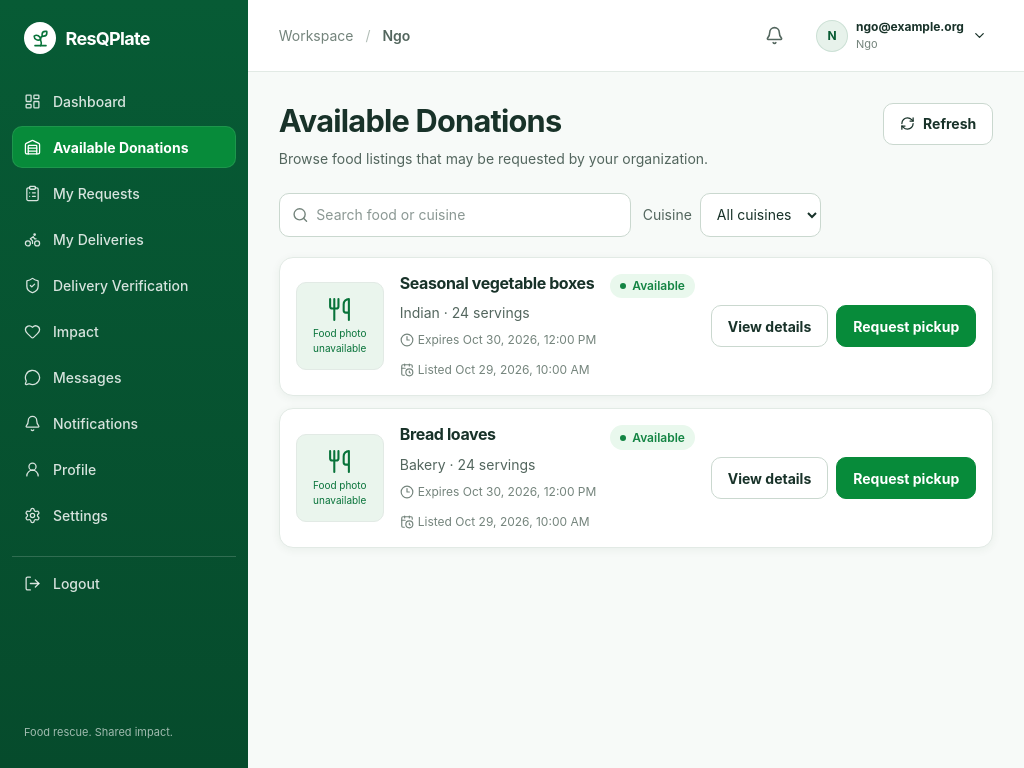
NGO available donations screen › renders visible listings and filters them by search and cuisine
The width and height of the screenshot is (1024, 768).
Expected: the heading "Seasonal vegetable boxes" is shown, x1=400 y1=274 x2=594 y2=293
Expected: the heading "Bread loaves" is shown, x1=400 y1=425 x2=496 y2=445
Type "vegetable" into the field named "Search donations" at (467, 215), box x1=316 y1=204 x2=618 y2=225
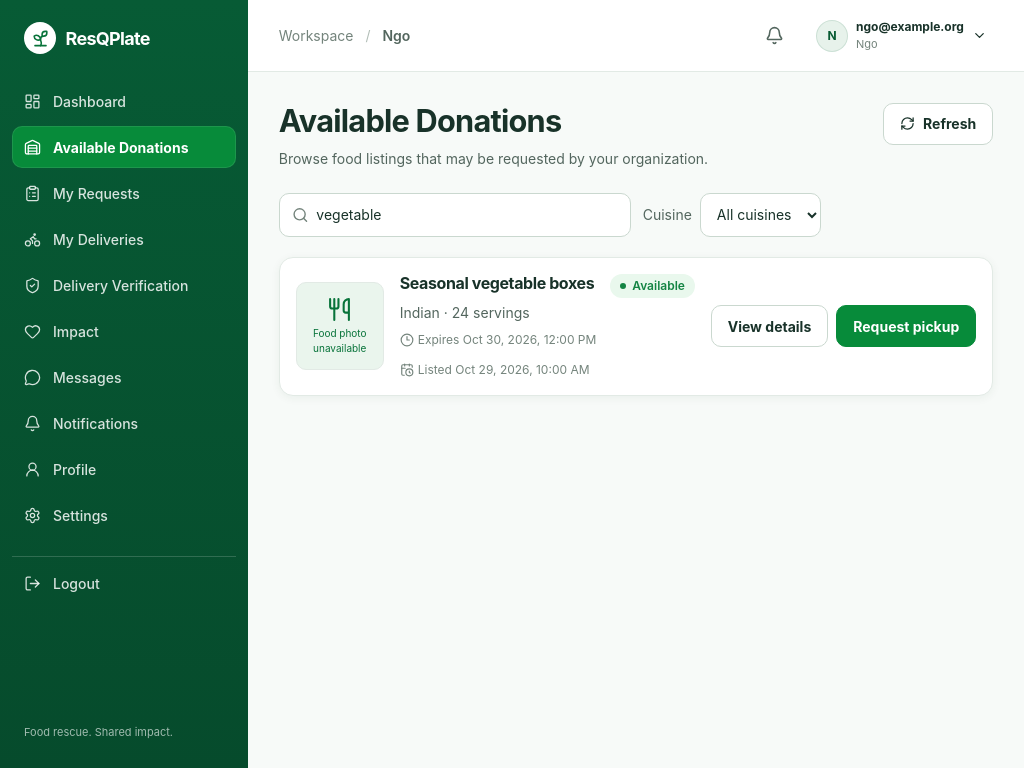
Expected: the heading "Seasonal vegetable boxes" is shown, x1=400 y1=274 x2=594 y2=293
Expected: the heading "Bread loaves" is gone
Clear the field named "Search donations" at (467, 215), box x1=316 y1=204 x2=618 y2=225
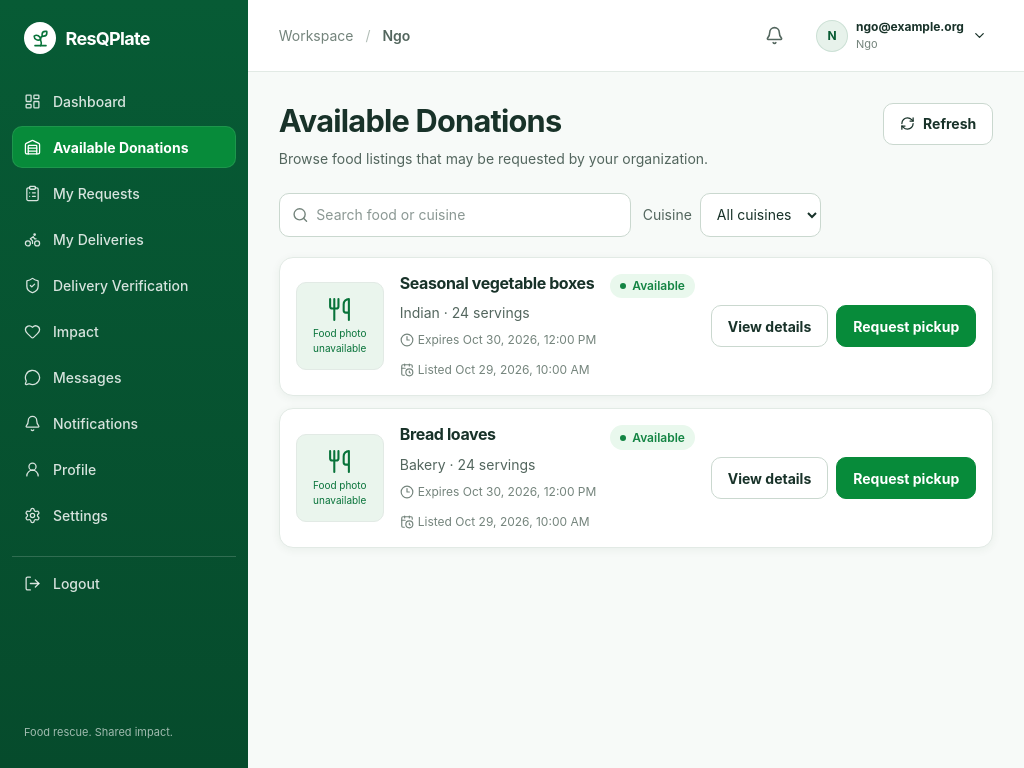
Select "Bakery" in the dropdown named "Filter by cuisine" at (760, 215), box x1=700 y1=193 x2=821 y2=237
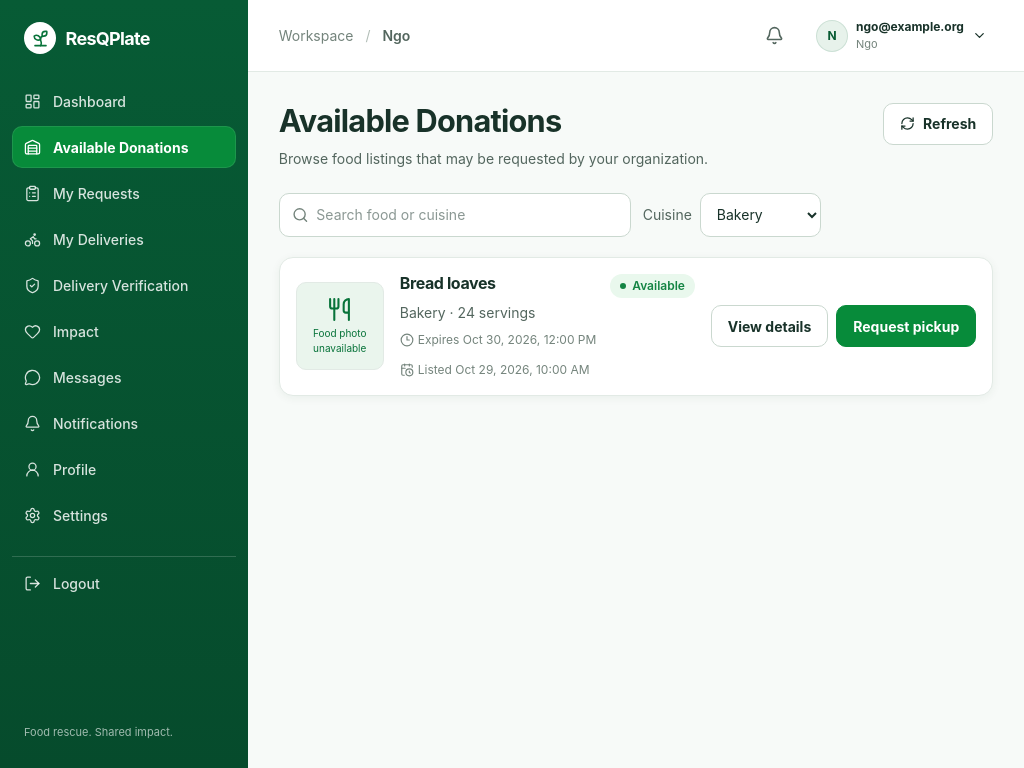
Expected: the heading "Bread loaves" is shown, x1=400 y1=274 x2=496 y2=293
Expected: the heading "Seasonal vegetable boxes" is gone
